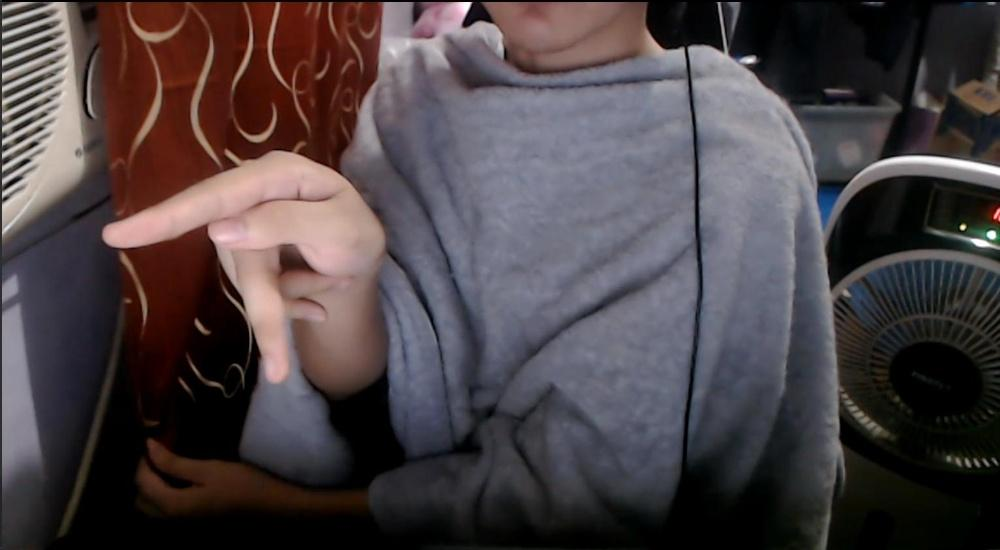p: (99, 148, 387, 385)
